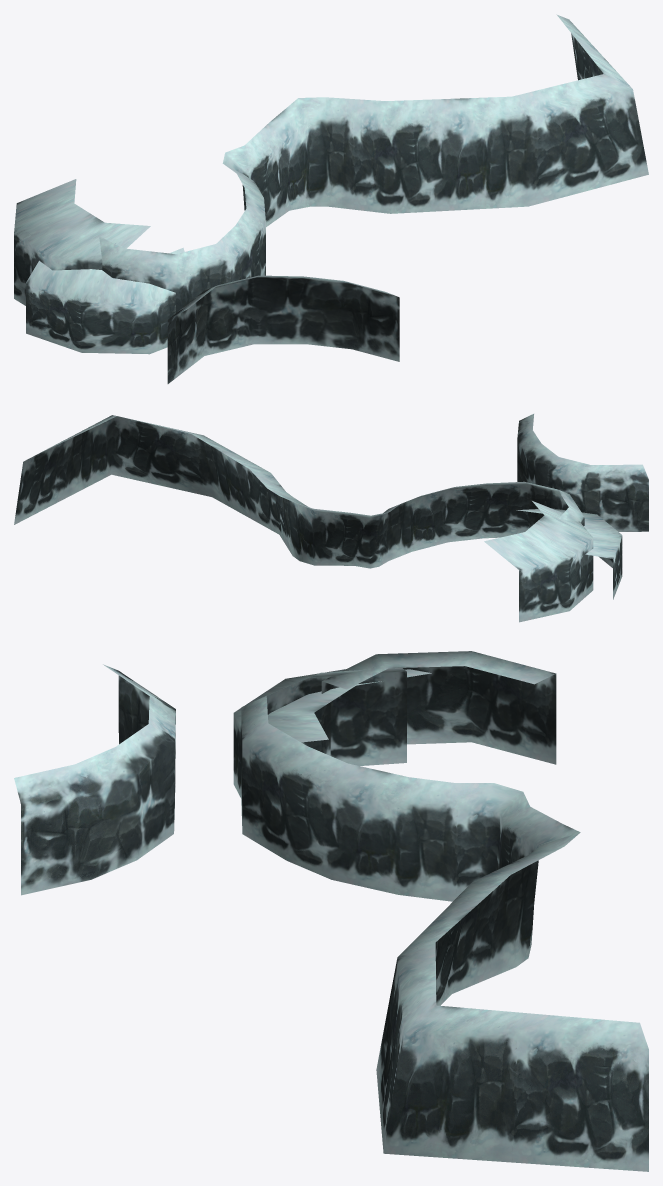
File: section05_guanka02_dimian02.FBX
The picture shows the model from 3 angles, top to bottom: view 1: azimuth 30°, elevation 25°; view 2: azimuth 150°, elevation 25°; view 3: azimuth 270°, elevation 25°; orthographic projection. The views are drawn at different scales.
Visible parts, largest first — view 1: section05_guanka02_dimian02; view 2: section05_guanka02_dimian02; view 3: section05_guanka02_dimian02.
Part boxes in pixels (left/top/right/bottom): section05_guanka02_dimian02: left=14, top=14, right=648, bottom=383; section05_guanka02_dimian02: left=14, top=414, right=648, bottom=622; section05_guanka02_dimian02: left=14, top=651, right=648, bottom=1171.
Bounding box in the file's own units: 153 × 92.56 × 22.19.
